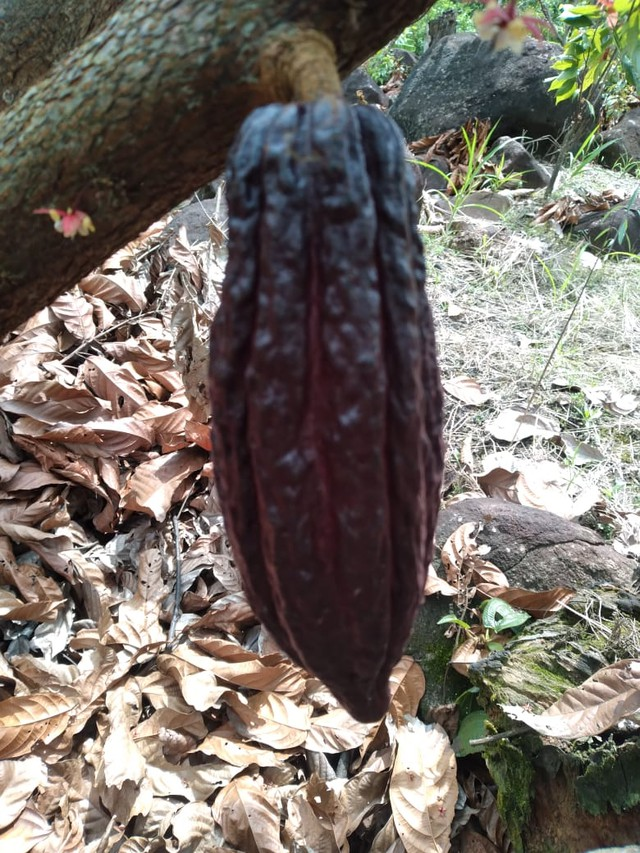Health: (172, 76, 469, 771)
